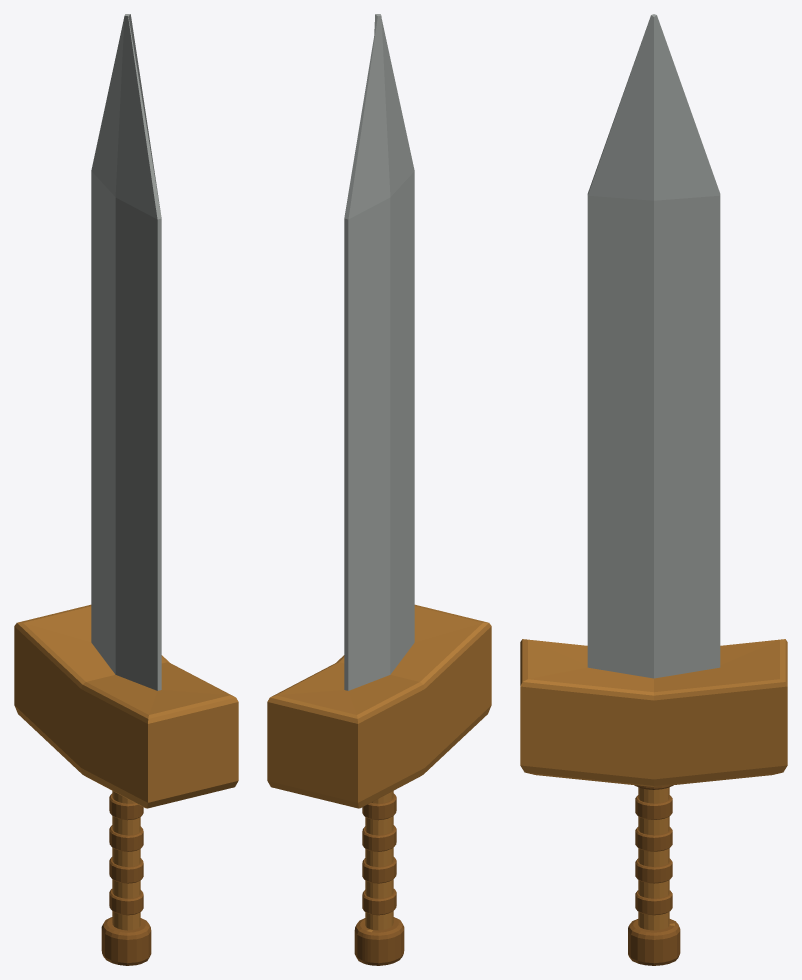
Rendered from kılıc.fbx.
3 renders of one model, left to right at view 1: azimuth 30°, elevation 25°; view 2: azimuth 150°, elevation 25°; view 3: azimuth 270°, elevation 25°, orthographic.
Visible parts, largest first — view 1: kılıc; view 2: kılıc; view 3: kılıc.
Part boxes in pixels (bbox=[...]): kılıc: bbox=[14, 14, 238, 965]; kılıc: bbox=[267, 14, 491, 965]; kılıc: bbox=[520, 14, 787, 965].
Bounding box in the file's own units: 20 × 198 × 51.02.
